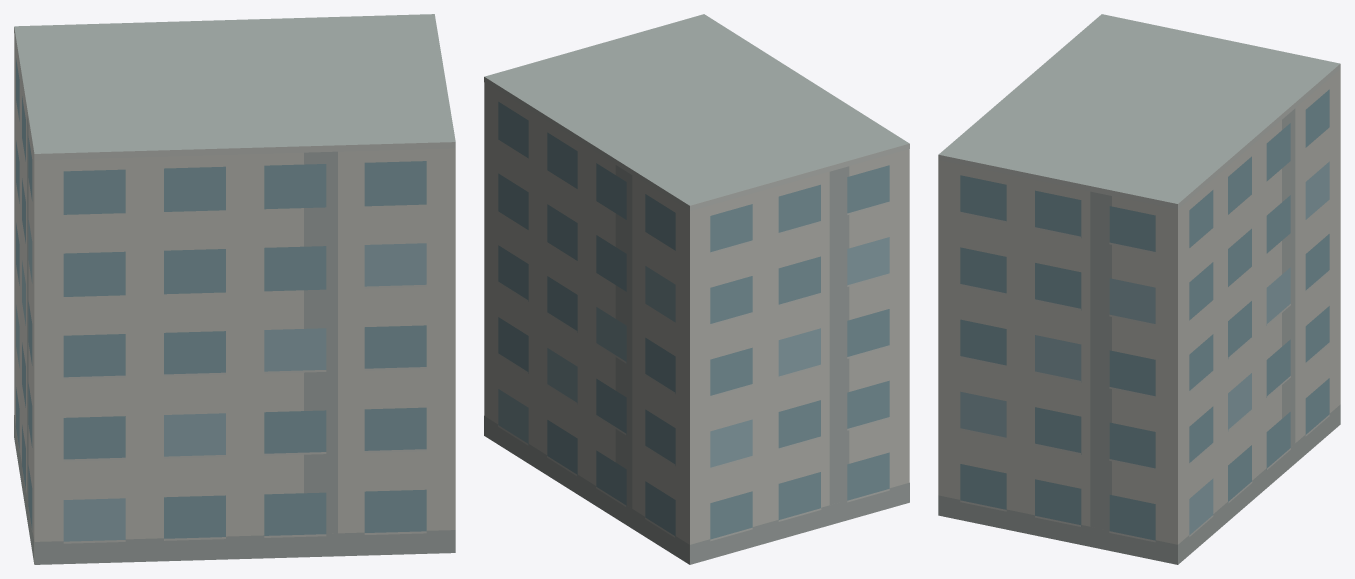
The model's file is survey-upis-33038372.glb.
The picture shows the model from 3 angles, left to right: view 1: azimuth 30°, elevation 25°; view 2: azimuth 150°, elevation 25°; view 3: azimuth 270°, elevation 25°; orthographic projection. The views are drawn at different scales.
Parts seen in each view (by area): view 1: survey-upis-33038372.tmp; view 2: survey-upis-33038372.tmp; view 3: survey-upis-33038372.tmp.
Boxes of the visible parts, left/top/right/bottom form: survey-upis-33038372.tmp: left=14, top=14, right=455, bottom=564; survey-upis-33038372.tmp: left=484, top=14, right=909, bottom=564; survey-upis-33038372.tmp: left=938, top=14, right=1340, bottom=564.
Bounding box in the file's own units: 17.97 × 15.9 × 16.07.
